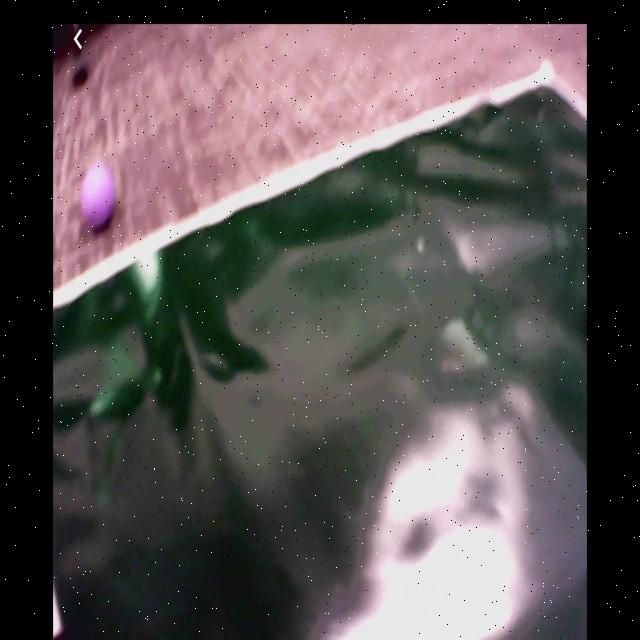ball: (82, 169, 115, 233)
